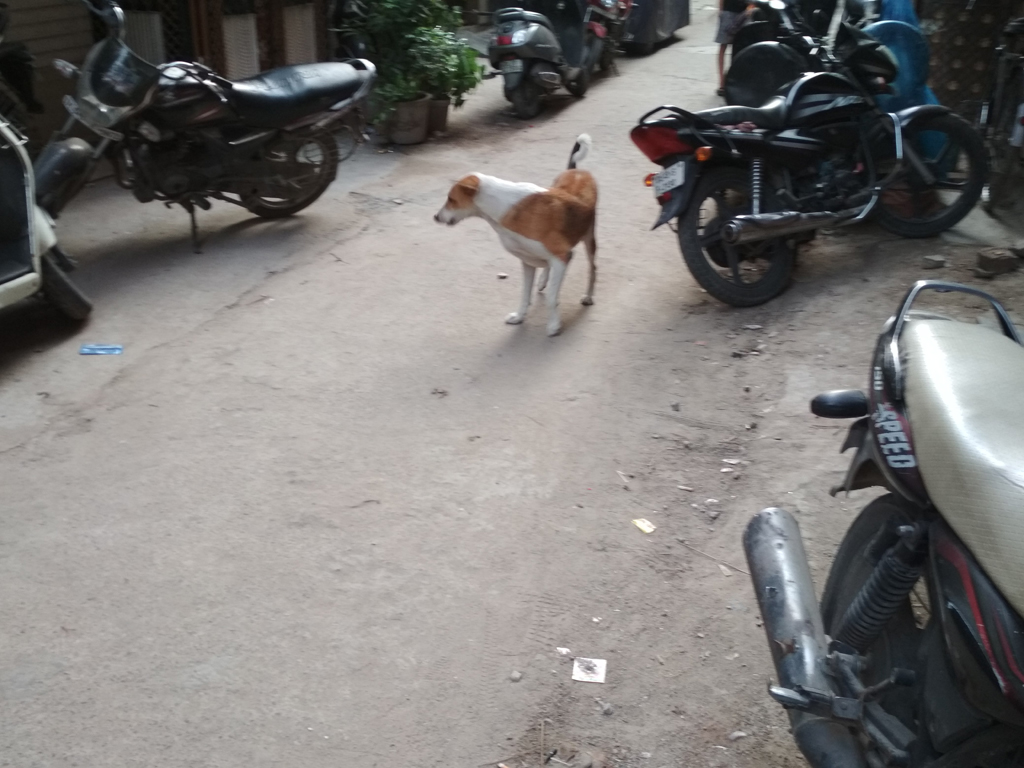dog: (433, 134, 599, 338)
